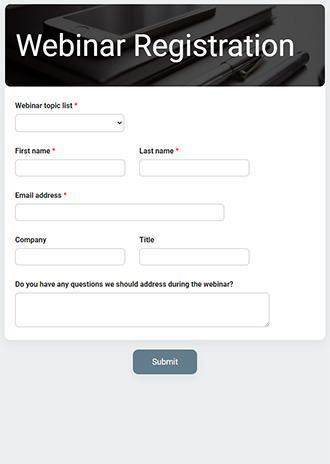button: (133, 349, 200, 376)
dropdown: (16, 115, 125, 134)
input: (16, 204, 226, 221), (16, 158, 127, 179), (14, 249, 125, 268), (140, 160, 251, 177), (140, 250, 250, 266)
label: (7, 25, 299, 63), (14, 279, 239, 290), (7, 99, 83, 113), (9, 187, 70, 202), (14, 144, 59, 158), (13, 232, 52, 248), (138, 146, 184, 157), (134, 233, 160, 247)
